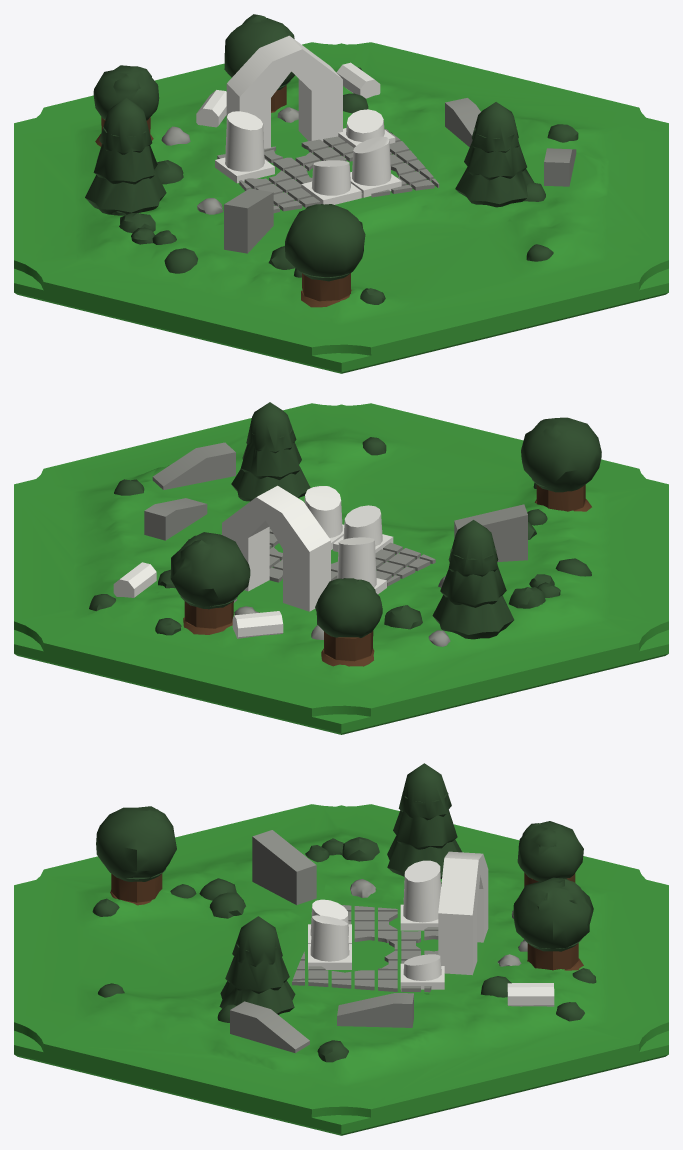
The model's file is ruine_1.glb.
3 renders of one model, top to bottom at view 1: azimuth 30°, elevation 25°; view 2: azimuth 150°, elevation 25°; view 3: azimuth 270°, elevation 25°, orthographic.
Visible parts, largest first — view 1: ruine_1; view 2: ruine_1; view 3: ruine_1.
Boxes of the visible parts, x1,y1,x2,y2 form: ruine_1: (14,14,668,373); ruine_1: (14,402,668,734); ruine_1: (14,763,668,1135).
Bounding box in the file's own units: 65.24 × 12.36 × 56.5.
